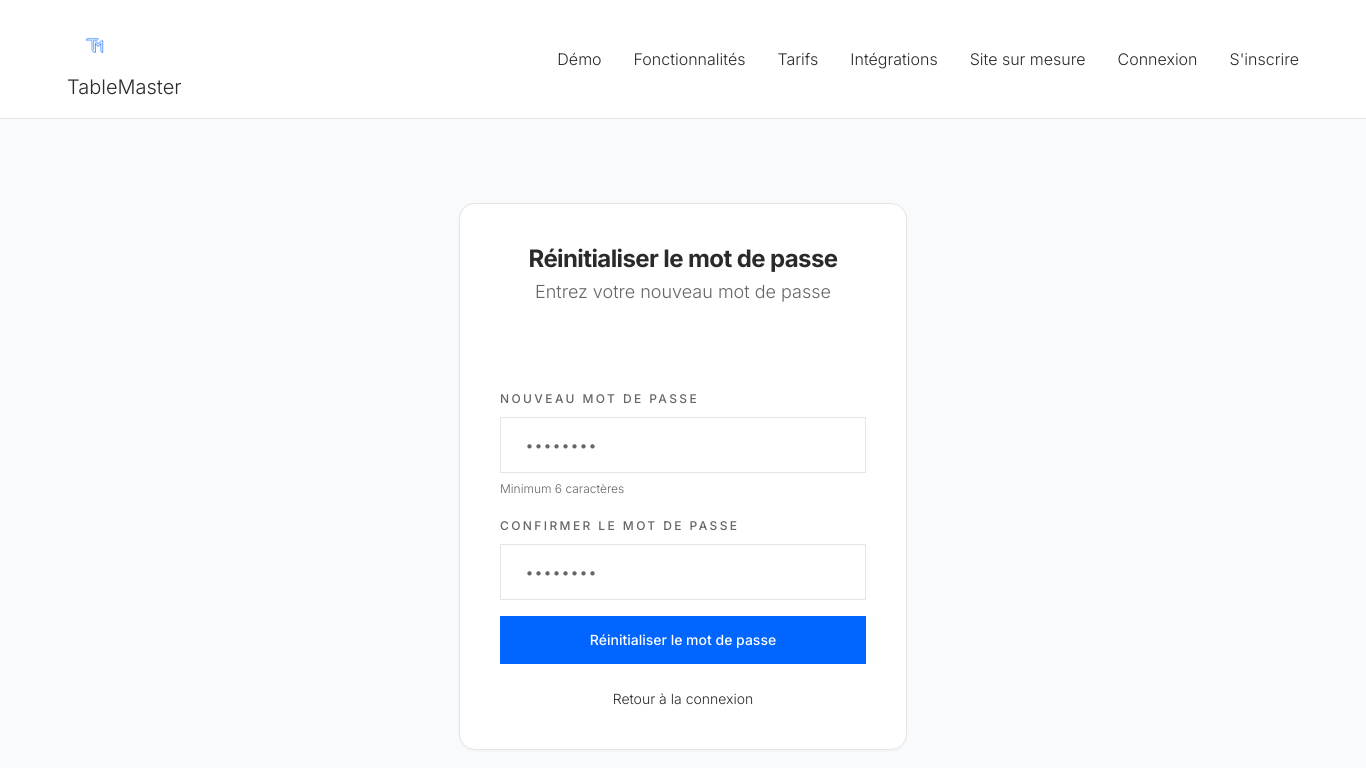
Reset Password Page › should validate password length
Type "123" into the password field with placeholder "••••••••" at (683, 444), box 500,416 -> 866,472
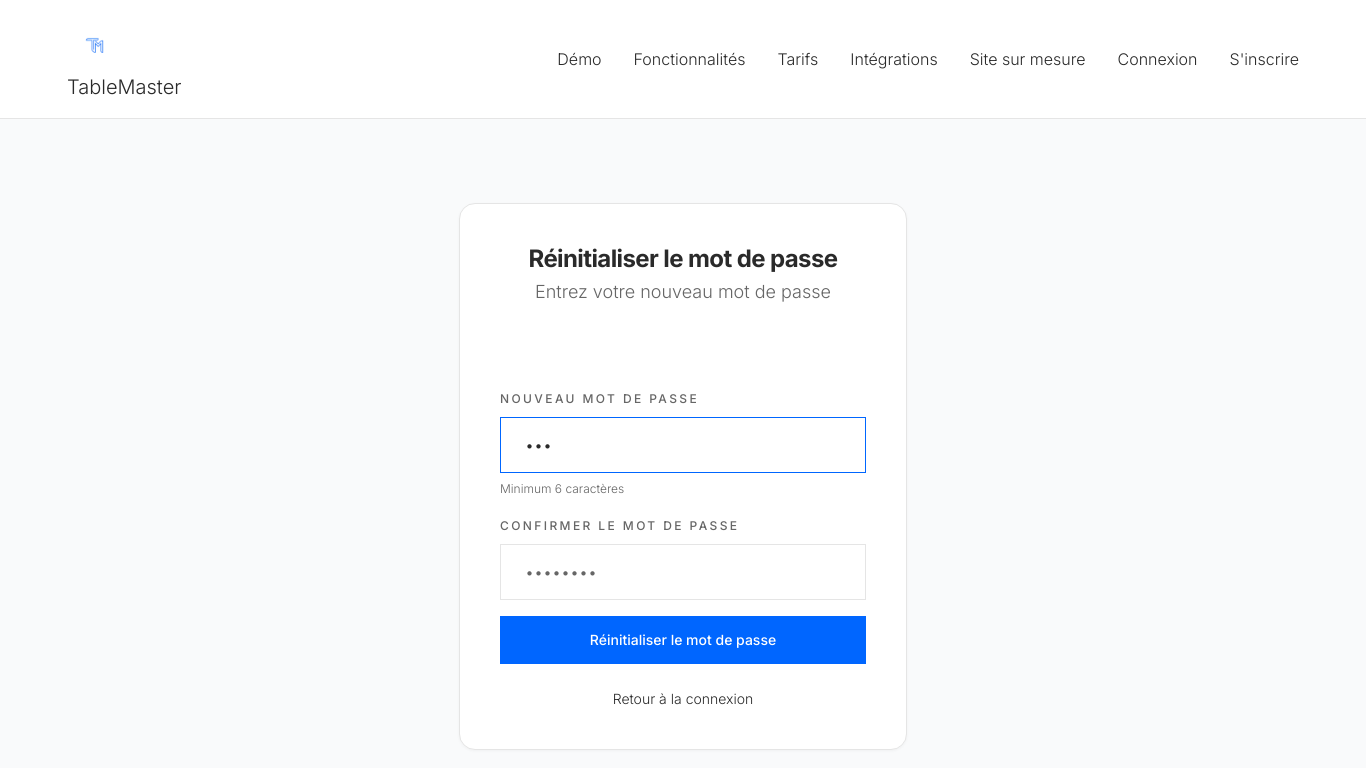
Type "123" into the password field with placeholder "••••••••" at (683, 572), box 500,544 -> 866,600
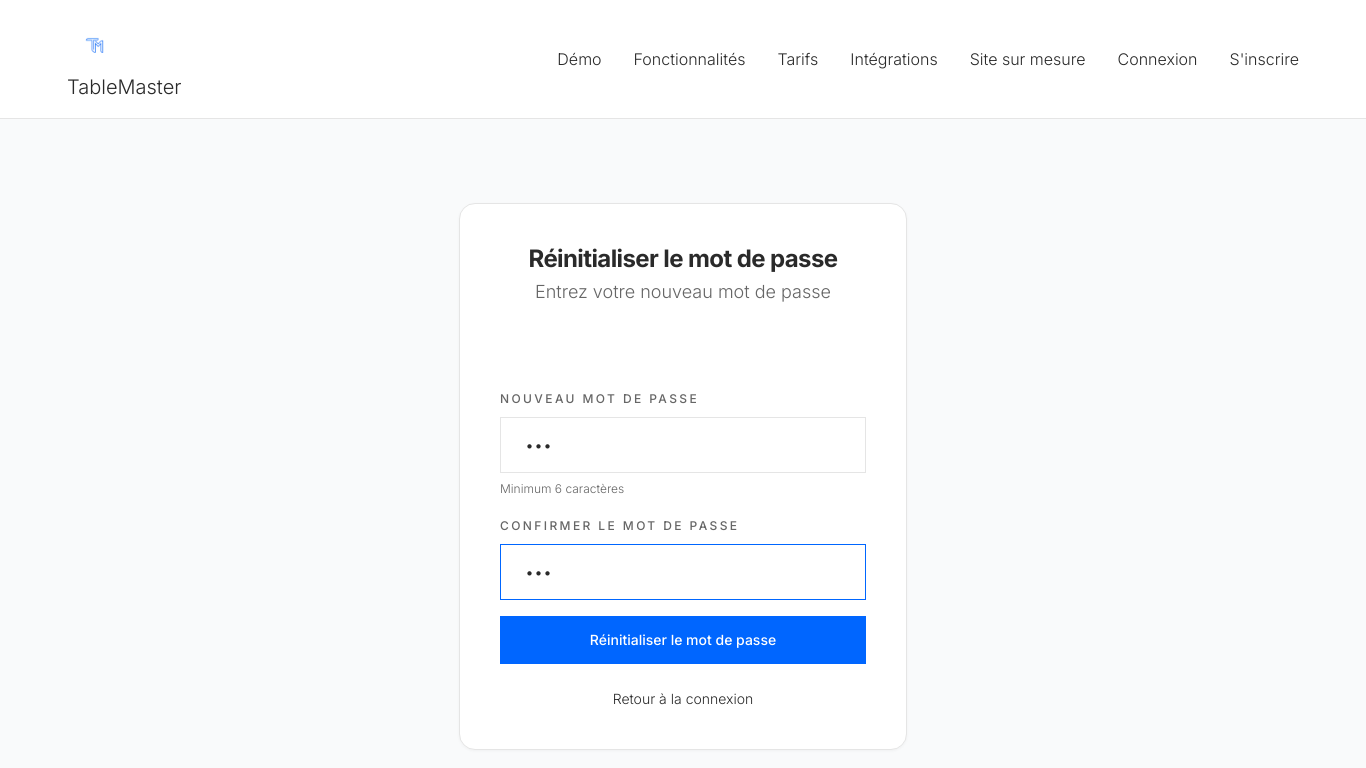
Submit the form with test id "reset-password-form", box 500,384 -> 866,664
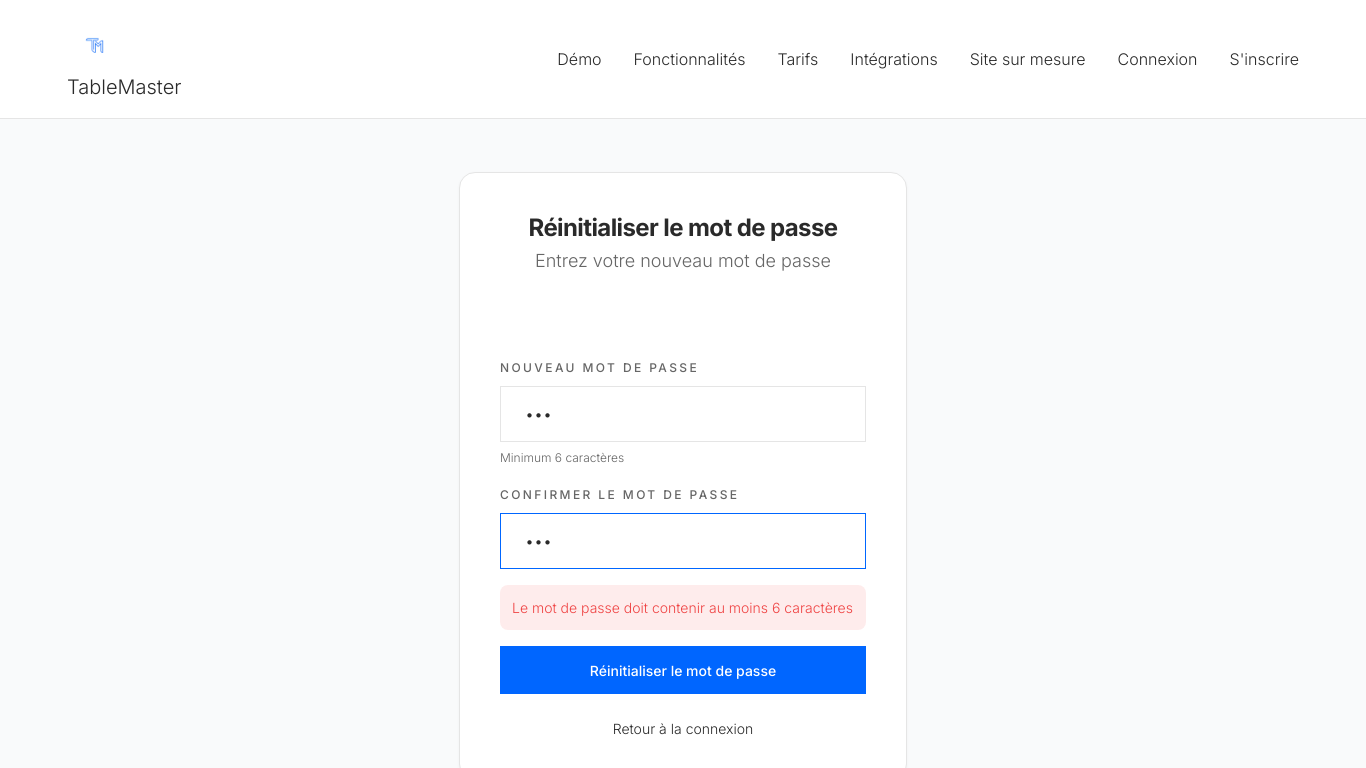
Check: the text "Le mot de passe doit contenir au moins 6 caractères" is shown, box 500,585 -> 866,630
